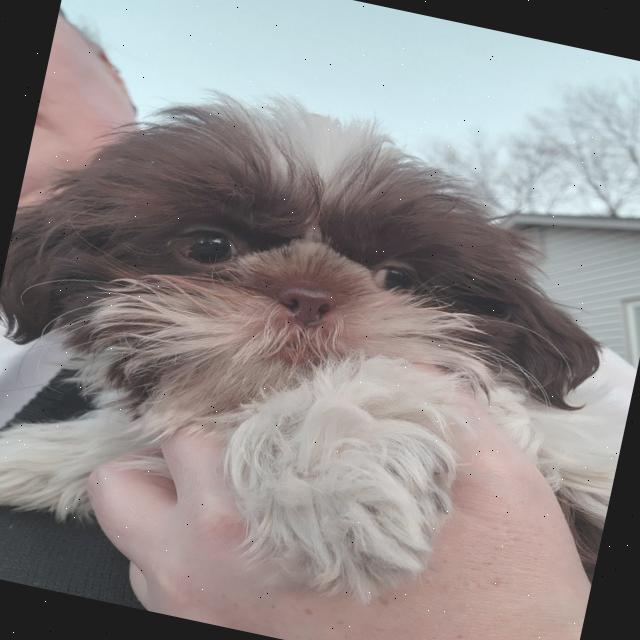shih_tzu_dog: (0, 44, 640, 495)
